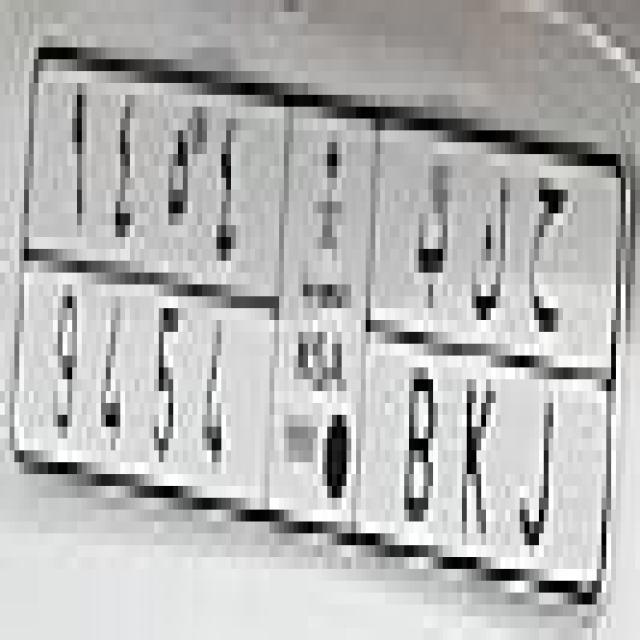license_plate: (7, 41, 630, 603)
